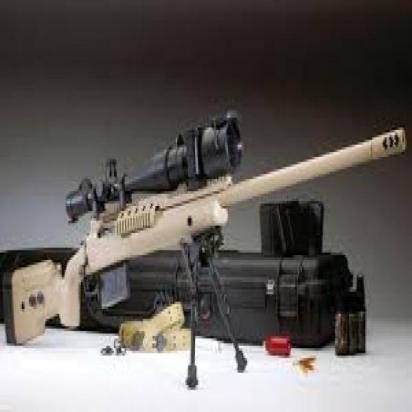Gun: (3, 119, 408, 350)
